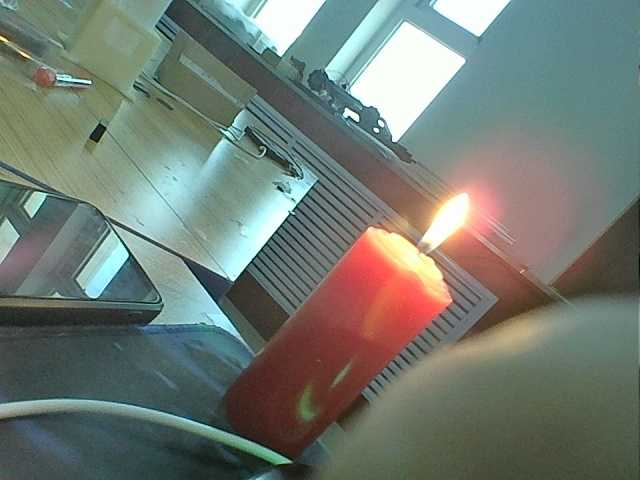candle: (225, 206, 453, 454)
fire: (406, 182, 485, 269)
